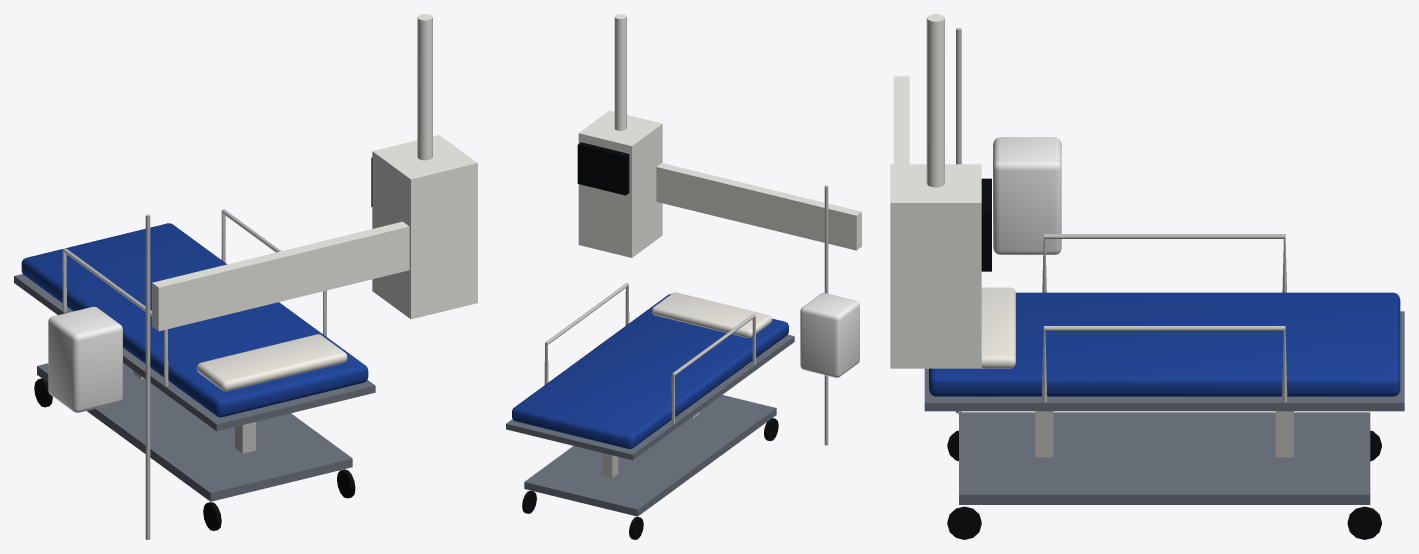
File: hospital.bed.resus_bay.glb
3 views of the same model, side by side, from view 1: azimuth 30°, elevation 25°; view 2: azimuth 150°, elevation 25°; view 3: azimuth 270°, elevation 25° (orthographic). The views are drawn at different scales.
Visible parts, largest first — view 1: main__paint_white, soft__plastic_blue, frame__steel_painted, main__plastic_white, soft__fabric_white, main__steel_stainless, frame__rubber, frame__steel_stainless; view 2: soft__plastic_blue, main__paint_white, frame__steel_painted, main__plastic_white, soft__fabric_white, main__steel_stainless, main__screen, frame__rubber, frame__steel_stainless; view 3: frame__steel_painted, soft__plastic_blue, main__paint_white, main__plastic_white, main__steel_stainless, soft__fabric_white, frame__rubber, frame__steel_stainless, main__screen.
Part boxes in pixels (bbox=[...]): main__paint_white: bbox=[152, 14, 477, 331]; soft__plastic_blue: bbox=[21, 223, 368, 417]; frame__steel_painted: bbox=[14, 274, 375, 501]; main__plastic_white: bbox=[48, 306, 122, 412]; soft__fabric_white: bbox=[196, 334, 347, 391]; main__steel_stainless: bbox=[62, 209, 326, 539]; frame__rubber: bbox=[34, 378, 355, 530]; frame__steel_stainless: bbox=[133, 371, 255, 453]; soft__plastic_blue: bbox=[512, 294, 788, 449]; main__paint_white: bbox=[578, 14, 861, 257]; frame__steel_painted: bbox=[506, 334, 794, 516]; main__plastic_white: bbox=[800, 293, 859, 377]; soft__fabric_white: bbox=[652, 292, 772, 338]; main__steel_stainless: bbox=[544, 185, 828, 445]; main__screen: bbox=[577, 142, 629, 195]; frame__rubber: bbox=[522, 418, 778, 539]; frame__steel_stainless: bbox=[601, 412, 699, 477]; frame__steel_painted: bbox=[924, 311, 1404, 504]; soft__plastic_blue: bbox=[929, 292, 1400, 396]; main__paint_white: bbox=[890, 14, 981, 368]; main__plastic_white: bbox=[993, 137, 1061, 254]; main__steel_stainless: bbox=[956, 28, 1287, 413]; soft__fabric_white: bbox=[981, 287, 1015, 368]; frame__rubber: bbox=[947, 430, 1381, 539]; frame__steel_stainless: bbox=[1035, 411, 1293, 457]; main__screen: bbox=[981, 178, 991, 271].
Bounding box in the file's own units: 2.15 × 2.7 × 2.25.
